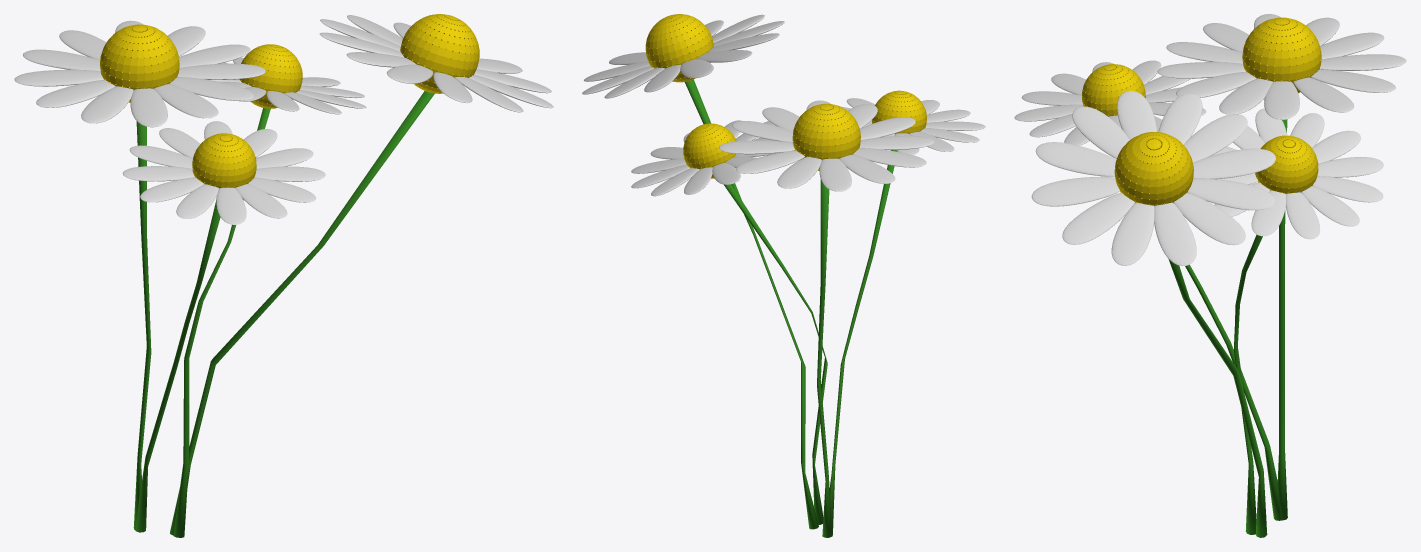
Rendered from Baboone Flower.fbx.
The picture shows the model from 3 angles, left to right: view 1: azimuth 30°, elevation 25°; view 2: azimuth 150°, elevation 25°; view 3: azimuth 270°, elevation 25°; orthographic projection. The views are drawn at different scales.
Parts seen in each view (by area): view 1: Cube, Cube.001, Cube.002, Sphere, Sphere.002, Circle.002, Sphere.001, Cube.003, Sphere.003, Circle.003, Circle, Circle.001; view 2: Cube, Cube.002, Cube.003, Sphere, Sphere.002, Cube.001, Circle, Circle.002, Sphere.003, Circle.001, Circle.003, Sphere.001; view 3: Cube.002, Cube, Cube.003, Sphere.002, Cube.001, Sphere, Sphere.003, Circle.002, Sphere.001, Circle, Circle.001, Circle.003.
Boxes of the visible parts, box(x1,y1,x2,y2) form: Cube: box(14, 20, 265, 127); Cube.001: box(122, 121, 325, 224); Cube.002: box(319, 15, 553, 112); Sphere: box(100, 24, 179, 102); Sphere.002: box(400, 14, 479, 93); Circle.002: box(170, 91, 434, 535); Sphere.001: box(192, 133, 256, 188); Cube.003: box(210, 57, 366, 114); Sphere.003: box(239, 44, 302, 108); Circle.003: box(173, 108, 270, 537); Circle: box(133, 121, 151, 529); Circle.001: box(135, 200, 220, 532); Cube: box(718, 100, 934, 191); Cube.002: box(582, 14, 784, 98); Cube.003: box(631, 120, 777, 196); Sphere: box(792, 103, 860, 170); Sphere.002: box(645, 14, 713, 82); Cube.001: box(841, 98, 985, 154); Circle: box(817, 179, 831, 537); Circle.002: box(684, 79, 818, 529); Sphere.003: box(683, 123, 736, 178); Circle.001: box(829, 150, 897, 536); Circle.003: box(724, 184, 827, 524); Sphere.001: box(872, 90, 926, 133); Cube.002: box(1031, 91, 1275, 265); Cube: box(1157, 14, 1406, 119); Cube.003: box(1211, 108, 1383, 239); Sphere.002: box(1114, 132, 1193, 205); Cube.001: box(1014, 60, 1206, 145); Sphere: box(1242, 17, 1321, 93); Sphere.003: box(1255, 135, 1318, 193); Circle.002: box(1168, 259, 1267, 537); Sphere.001: box(1082, 64, 1145, 116); Circle: box(1277, 119, 1287, 520); Circle.001: box(1185, 264, 1280, 520); Circle.003: box(1233, 234, 1262, 534).
Bounding box in the file's own units: 36.71 × 40.29 × 28.51.
